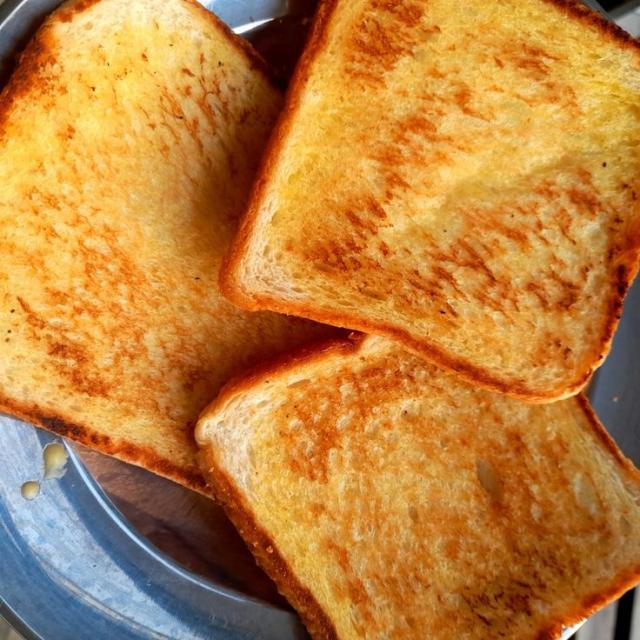toast bread: (221, 0, 639, 401), (0, 0, 326, 491), (196, 337, 639, 639)
